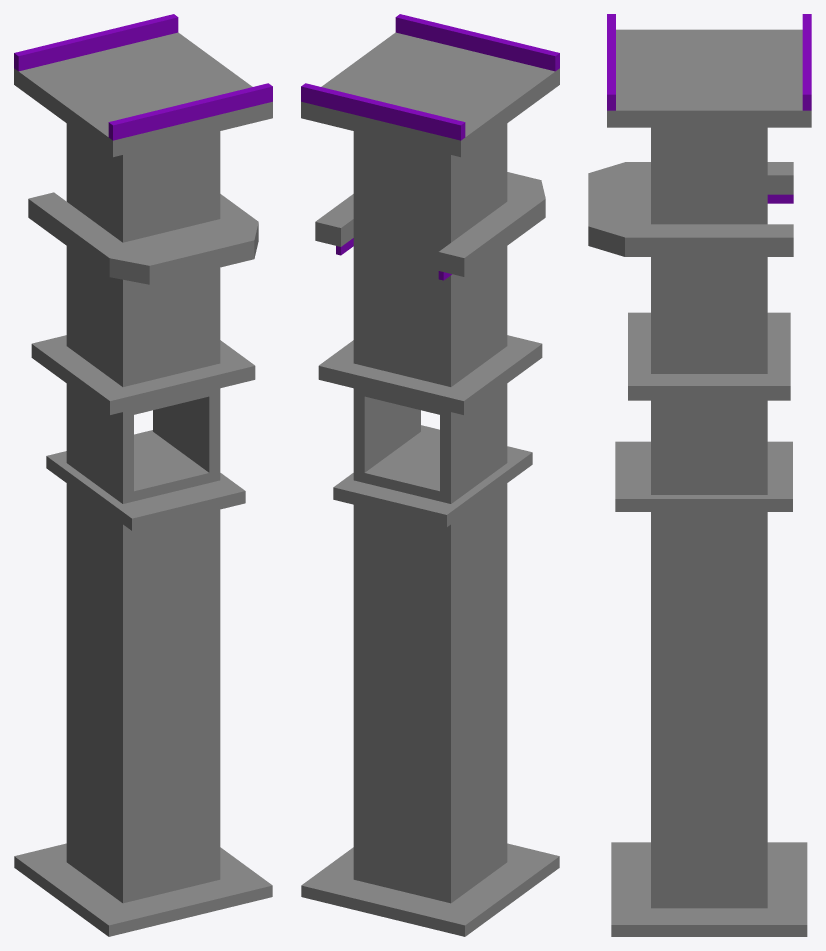
File: Building6.fbx
3 renders of one model, left to right at view 1: azimuth 30°, elevation 25°; view 2: azimuth 150°, elevation 25°; view 3: azimuth 270°, elevation 25°, orthographic. The views are drawn at different scales.
Parts seen in each view (by area): view 1: Building4; view 2: Building4; view 3: Building4.
Part boxes in pixels (x1=…): Building4: x1=14, y1=14, x2=272, y2=936; Building4: x1=301, y1=14, x2=559, y2=936; Building4: x1=588, y1=14, x2=811, y2=936.
Bounding box in the file's own units: 18.35 × 86.94 × 20.95.
